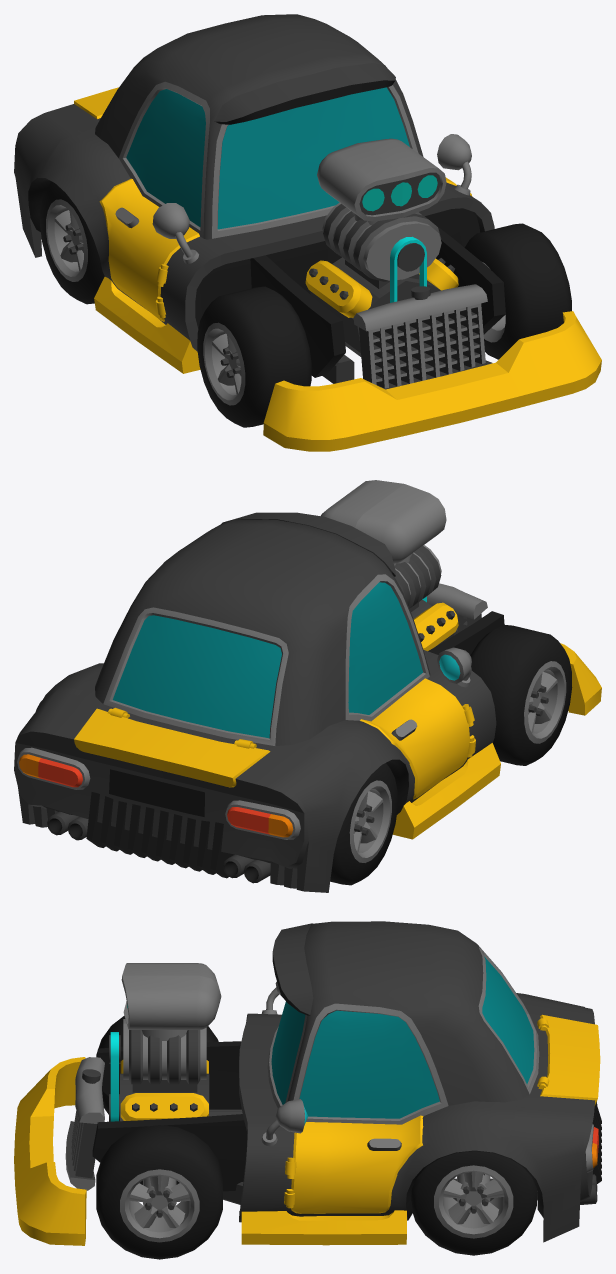
The model's file is VEH8-B.fbx.
3 views of the same model, one above another, from view 1: azimuth 30°, elevation 25°; view 2: azimuth 150°, elevation 25°; view 3: azimuth 270°, elevation 25° (orthographic). The views are drawn at different scales.
Parts seen in each view (by area): view 1: VEH8_B, V8B_Wheel_FR, V8B_Wheel_FL, V8B_Wheel_BR; view 2: VEH8_B, V8B_Wheel_FR, V8B_Wheel_BR; view 3: VEH8_B, V8B_Wheel_FL, V8B_Wheel_BL, V8B_Wheel_FR.
Part boxes in pixels (bbox=[...]): VEH8_B: bbox=[14, 14, 601, 451]; V8B_Wheel_FR: bbox=[197, 286, 311, 427]; V8B_Wheel_FL: bbox=[464, 223, 571, 359]; V8B_Wheel_BR: bbox=[40, 181, 104, 304]; VEH8_B: bbox=[14, 480, 601, 892]; V8B_Wheel_FR: bbox=[470, 624, 572, 765]; V8B_Wheel_BR: bbox=[330, 763, 397, 885]; VEH8_B: bbox=[14, 921, 601, 1245]; V8B_Wheel_FL: bbox=[96, 1125, 222, 1259]; V8B_Wheel_BL: bbox=[411, 1151, 536, 1255]; V8B_Wheel_FR: bbox=[96, 1016, 218, 1114].
Bounding box in the file's own units: 251 × 189 × 413.
Materials: 1 (1 with a texture image).
